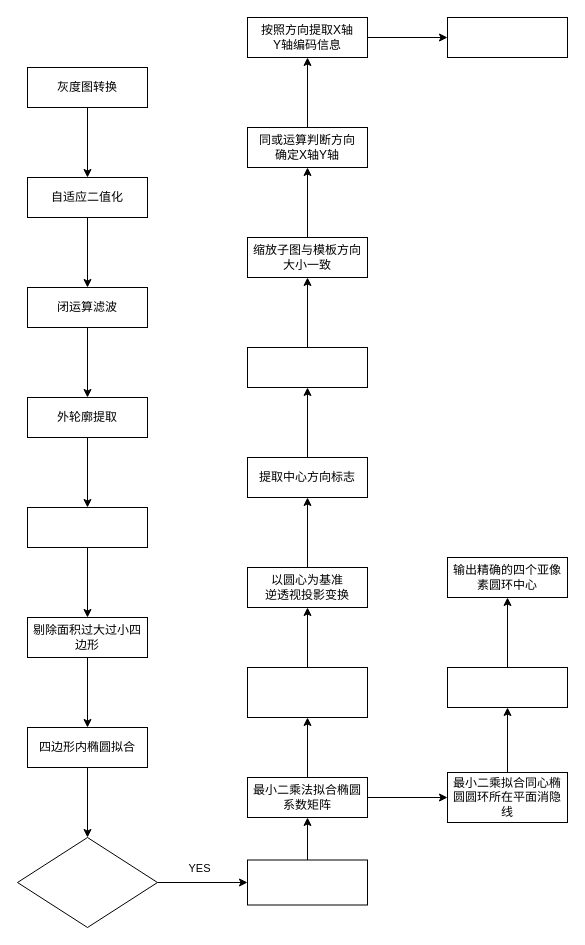
The diagram is 585 pixels wide and 945 high, and some of its shapes have lost their labels. The shapes that lost their labels are listed below. From the top down, each one's box as (x1, y1, x2, y2) in pixels, then its label:
(446, 16, 568, 58): 返回编码信息
(246, 346, 368, 388): 顺时针旋转获得四张中心标志子图
(26, 506, 148, 548): 四边形拟合
(246, 666, 368, 718): 拟合八个椭圆圆心 嵌套关系平均处理 粗圆心提取
(446, 666, 568, 708): 配极对应计算圆心
(16, 836, 158, 928): 外轮廓椭圆数==4
(246, 859, 368, 905): 拟合内外椭圆边界
